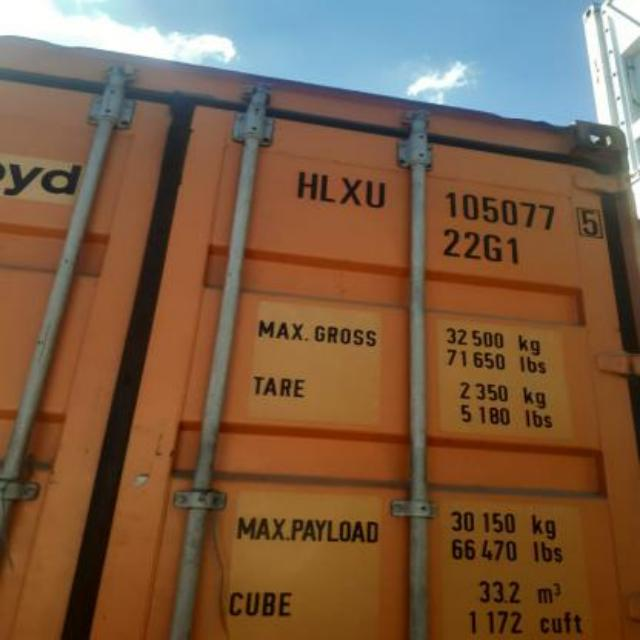0: (460, 182, 480, 225), (498, 188, 518, 230)
1: (442, 182, 458, 222)
5: (575, 203, 605, 241), (482, 184, 498, 226)
7: (516, 190, 536, 230), (536, 198, 554, 232)
H: (293, 167, 319, 203)
L: (320, 168, 336, 208)
U: (364, 175, 388, 211)
X: (338, 170, 362, 212)
